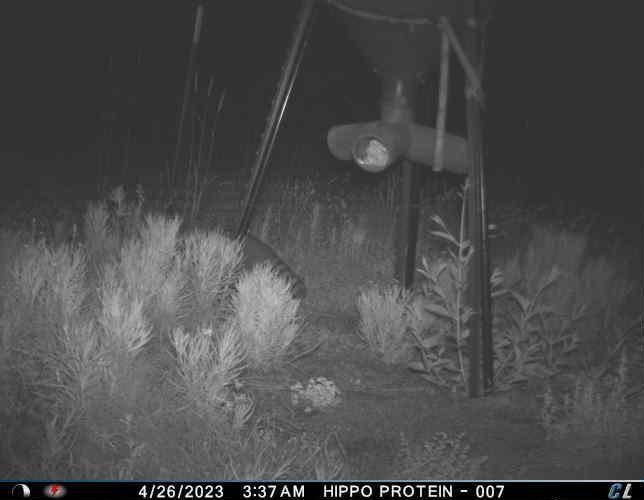Raccoon: (224, 226, 306, 301)
